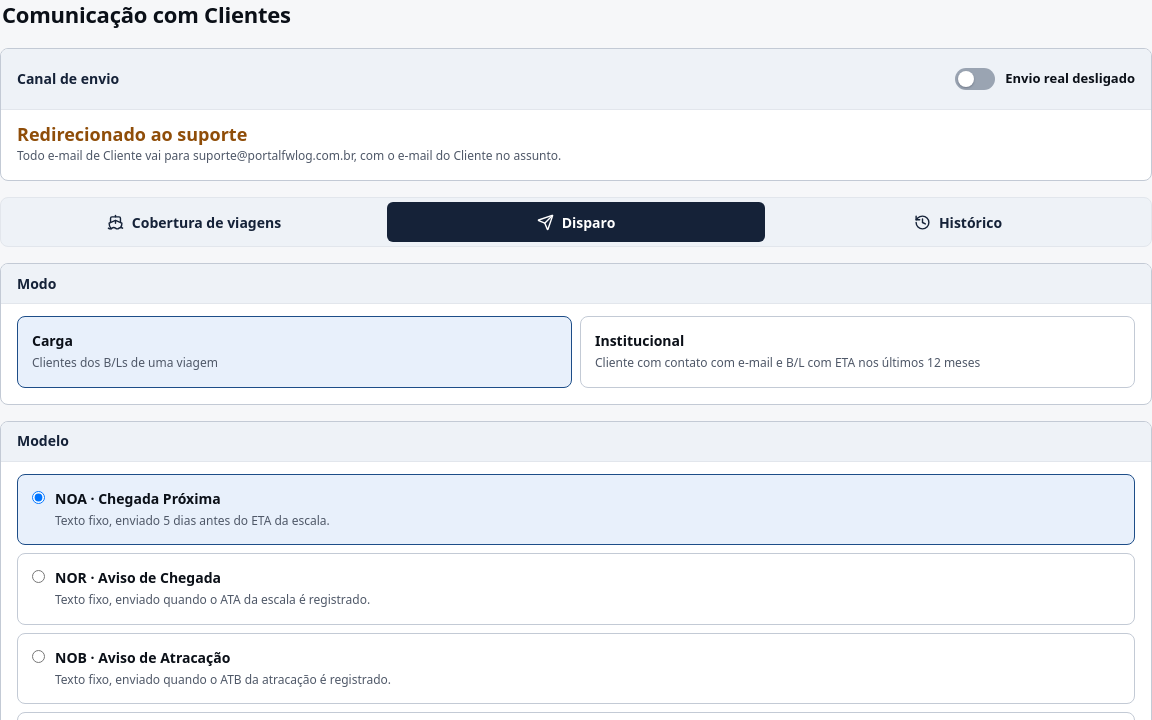
it: Página ClientesComunicacao (UI e fluxos) › cada modo oferece apenas os modelos do seu recorte de destinatários
Expected: the radio button labelled "NOA · Chegada Próxima" is shown, [32,490,45,504]
Expected: the radio button labelled "NOR · Aviso de Chegada" is shown, [32,570,45,583]
Click the radio button labelled "Institucional" at (858, 352), box [580,316,1135,388]
(page scrolled)
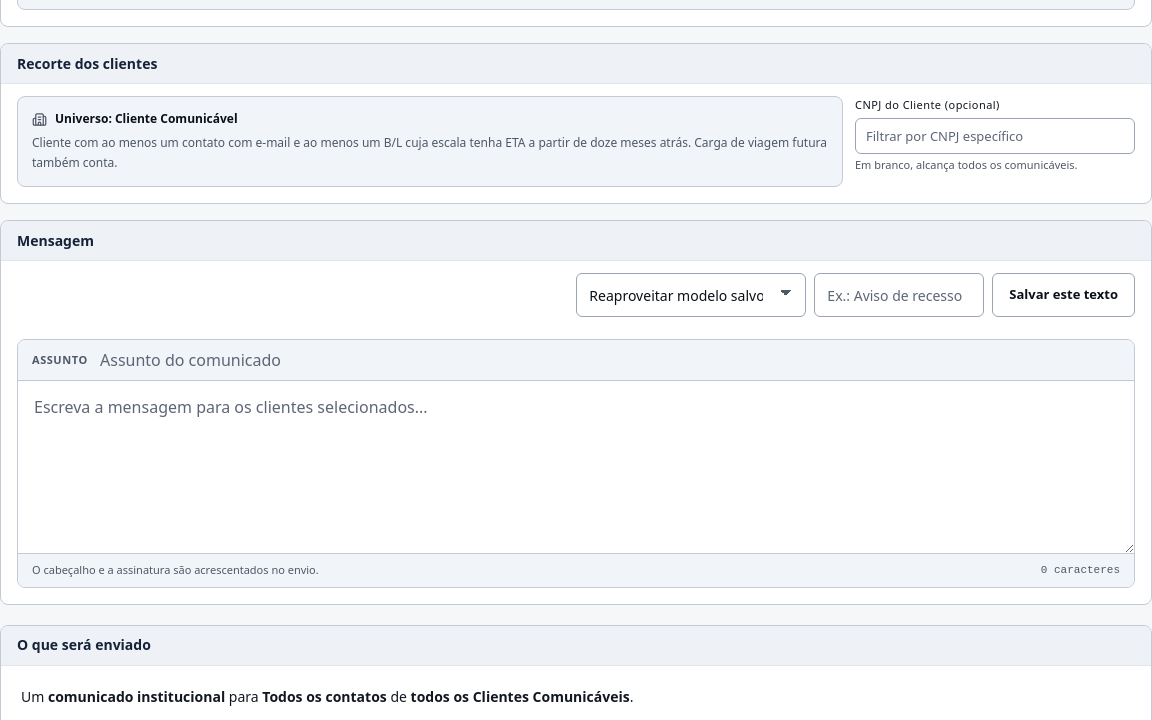
Expected: the text "NOA · Chegada Próxima" is gone
Expected: the field labelled "Assunto" is shown, [100,348,1120,372]
